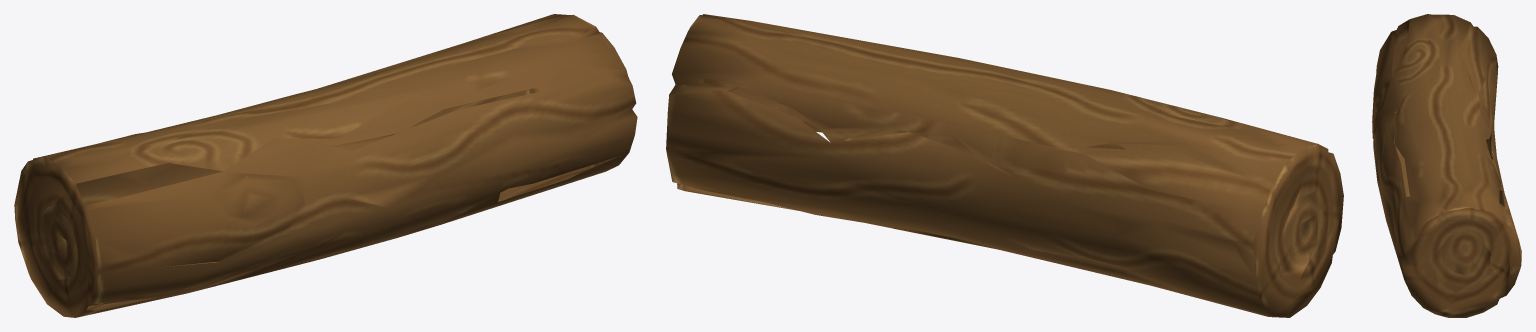
File: wood_lod_LOD0.fbx
3 views of the same model, side by side, from view 1: azimuth 30°, elevation 25°; view 2: azimuth 150°, elevation 25°; view 3: azimuth 270°, elevation 25° (orthographic). The views are drawn at different scales.
Visible parts, largest first — view 1: wood_lod_LOD0; view 2: wood_lod_LOD0; view 3: wood_lod_LOD0.
Boxes of the visible parts, x1,y1,x2,y2 form: wood_lod_LOD0: (14,14,637,317); wood_lod_LOD0: (666,14,1343,317); wood_lod_LOD0: (1372,14,1521,317).
Size of the model in its own units: 179 by 46.02 by 56.26.
